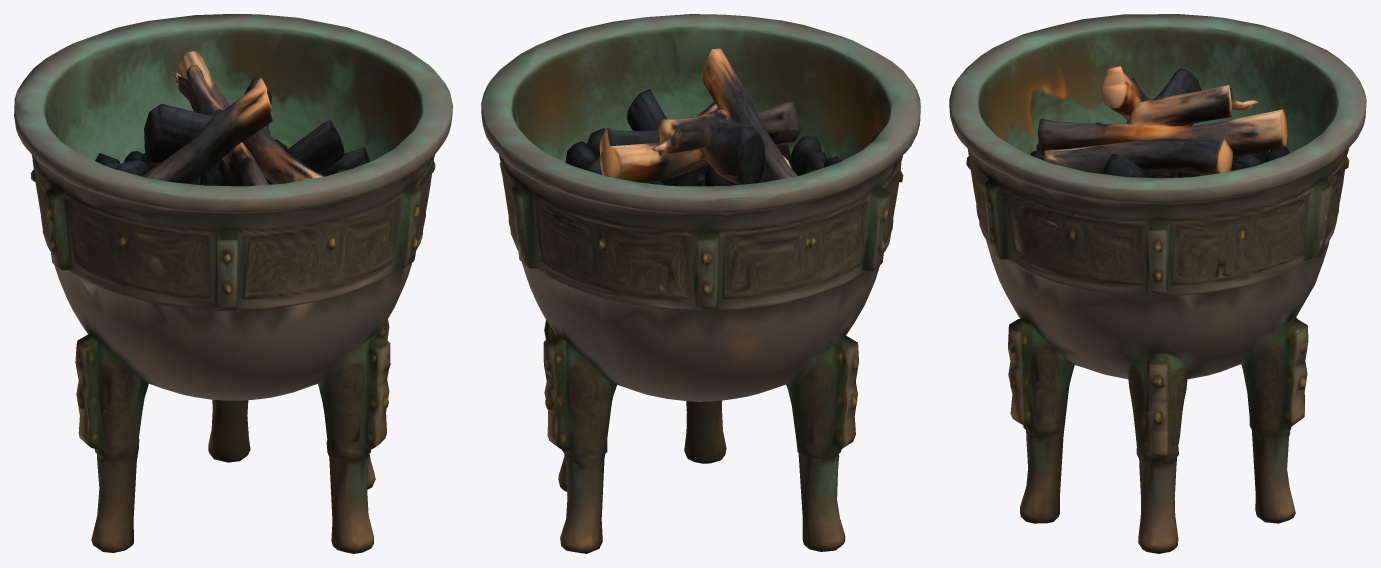
Rendered from brazier-hy3-v1.glb.
3 renders of one model, left to right at view 1: azimuth 30°, elevation 25°; view 2: azimuth 150°, elevation 25°; view 3: azimuth 270°, elevation 25°, orthographic. The views are drawn at different scales.
Visible parts, largest first — view 1: node_0; view 2: node_0; view 3: node_0.
Boxes of the visible parts, bbox=[...] form: node_0: bbox=[14, 14, 452, 553]; node_0: bbox=[481, 14, 920, 553]; node_0: bbox=[949, 14, 1366, 553].
Bounding box in the file's own units: 0.75 × 0.85 × 0.75.
Materials: 1 (1 with a texture image).
